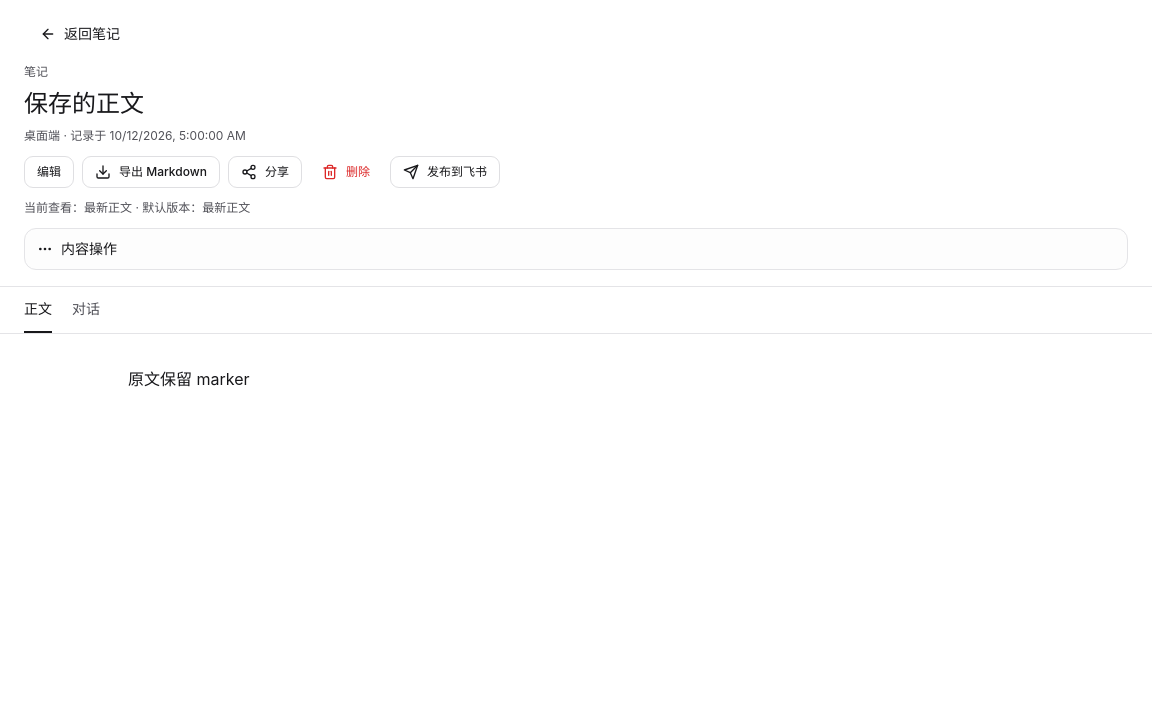
Test: previews the saved export and share with one dialog and cancels without changing or uploading content
Click the button "导出 Markdown": (151, 172) [82,156,220,188]
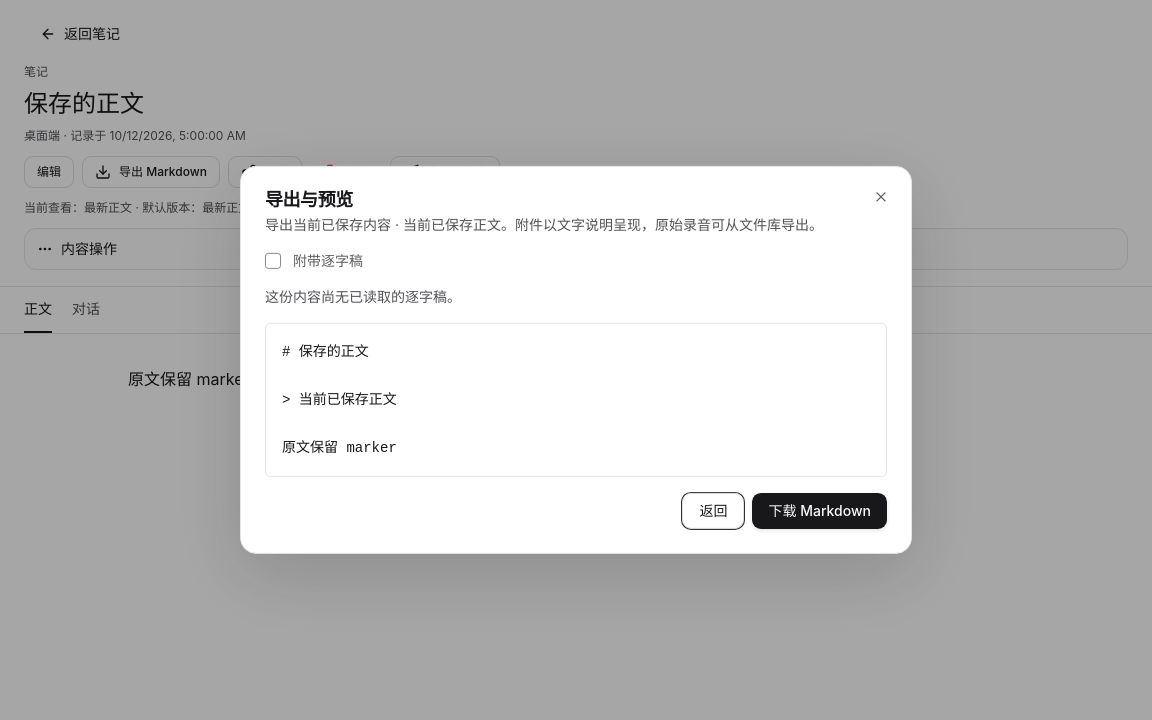
Expected: the number of dialogs is 1, [240,166,912,554]
Expected: the dialog shows "原文保留 marker", [282,344,397,456]
Click the button "返回": (714, 511) [682,493,744,529]
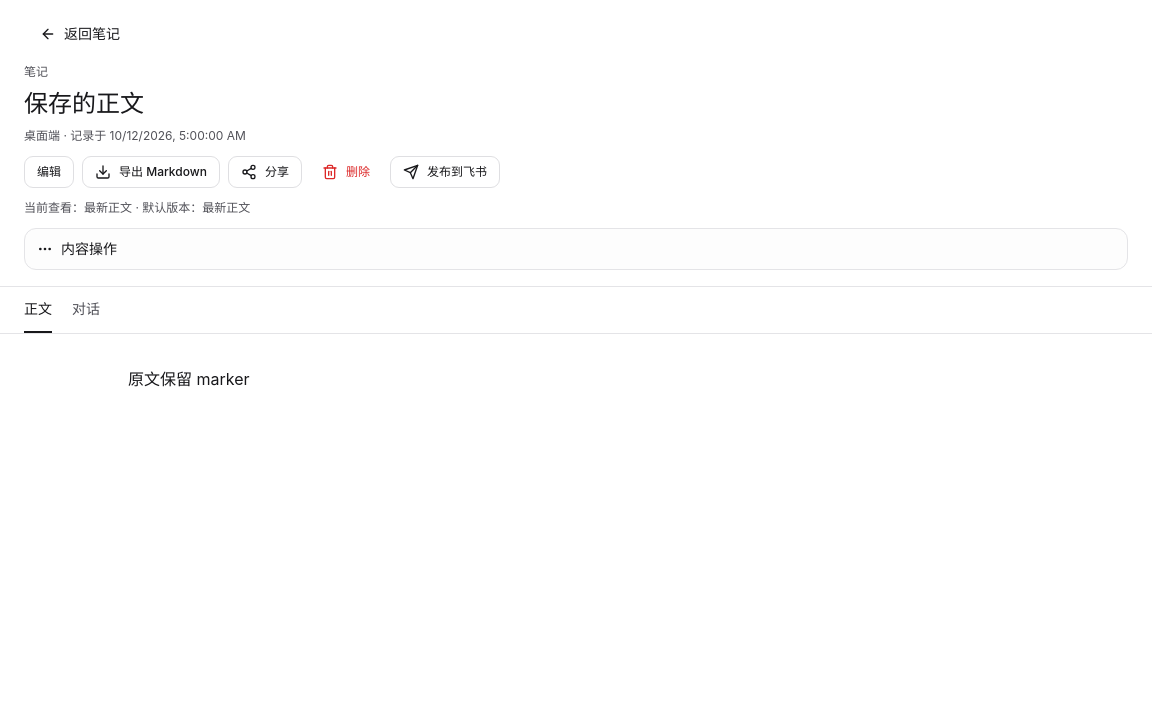
Click the button "分享": (265, 172) [228,156,302,188]
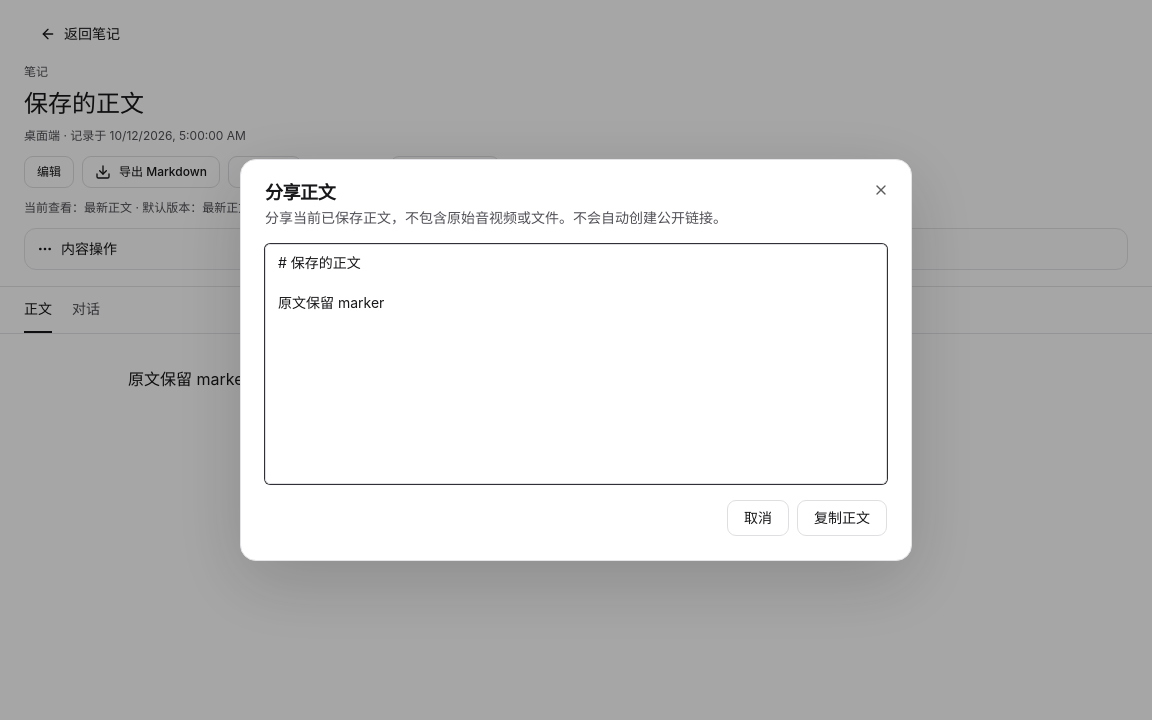
Expected: the number of dialogs is 1, [240,159,912,561]
Click the button "取消": (758, 518) [727,500,789,536]
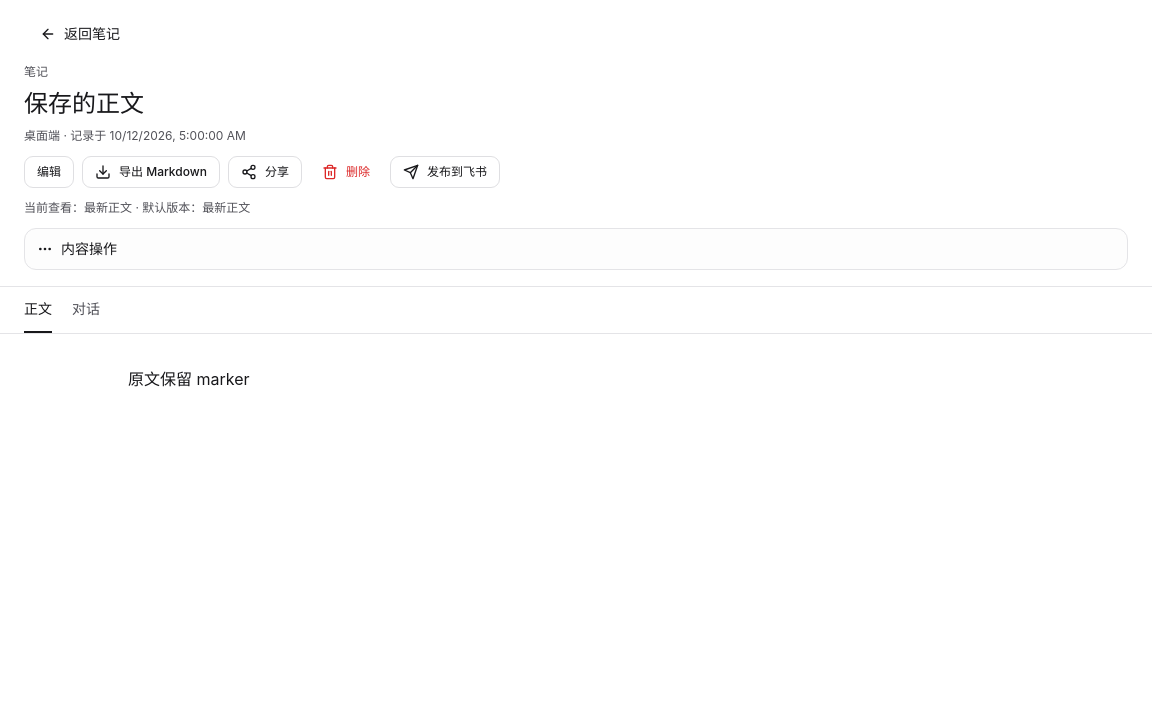
Expected: the dialog is gone
